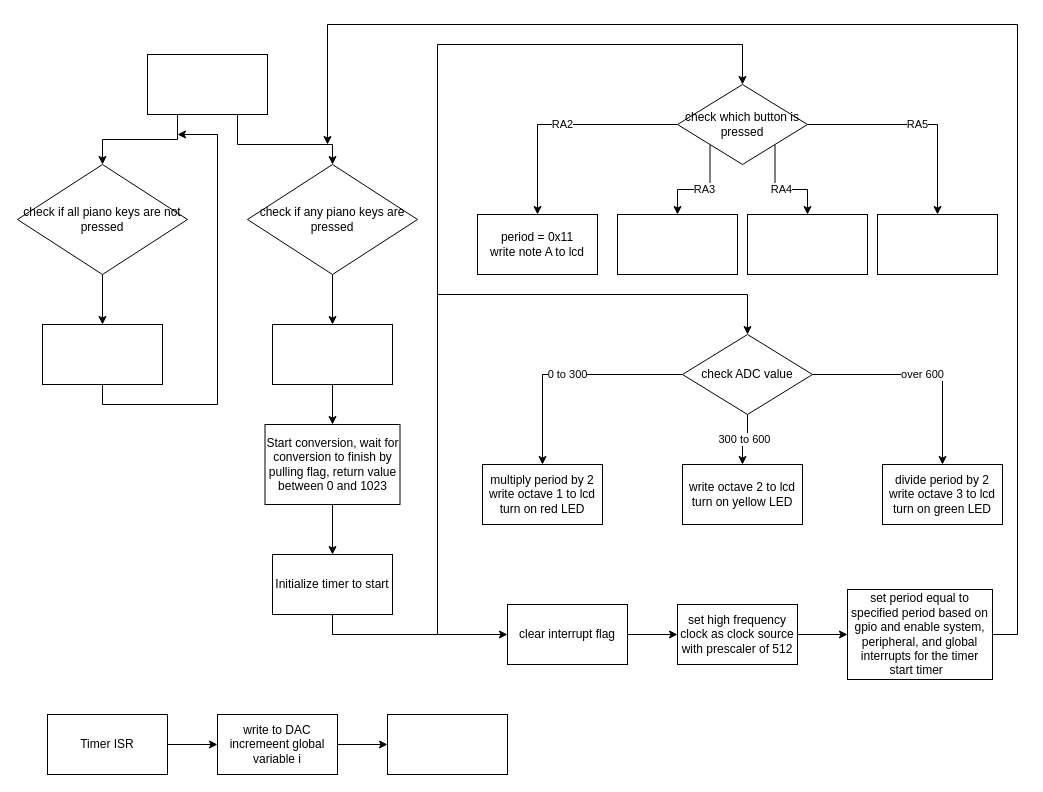
The diagram is 1043 pixels wide and 792 high, and some of its shapes have lost their labels. The centre of each missing label's shape, as x and y in pixels:
if i is 16, set to 0 clear interrupt flag: pixel 447 744
Initialize clock, gpio, interrupts, spi, adc, and lcd logical layer and pointers: pixel 207 84
period = 0x0C write note D to lcd: pixel 937 244
period = 0x0E write note C to lcd: pixel 807 244
period = 0x0F write note B to lcd: pixel 677 244
Read from analog input (pot) by reading ADC: pixel 332 354
Turn off timer reset LCD to show nothing Turn off all LEDs: pixel 102 354
